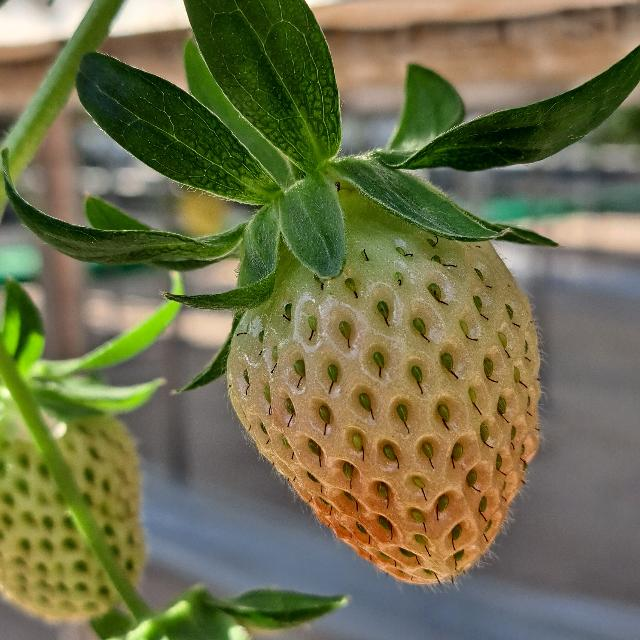Health_25: (0, 367, 156, 621)
Health_50: (225, 188, 540, 584)
